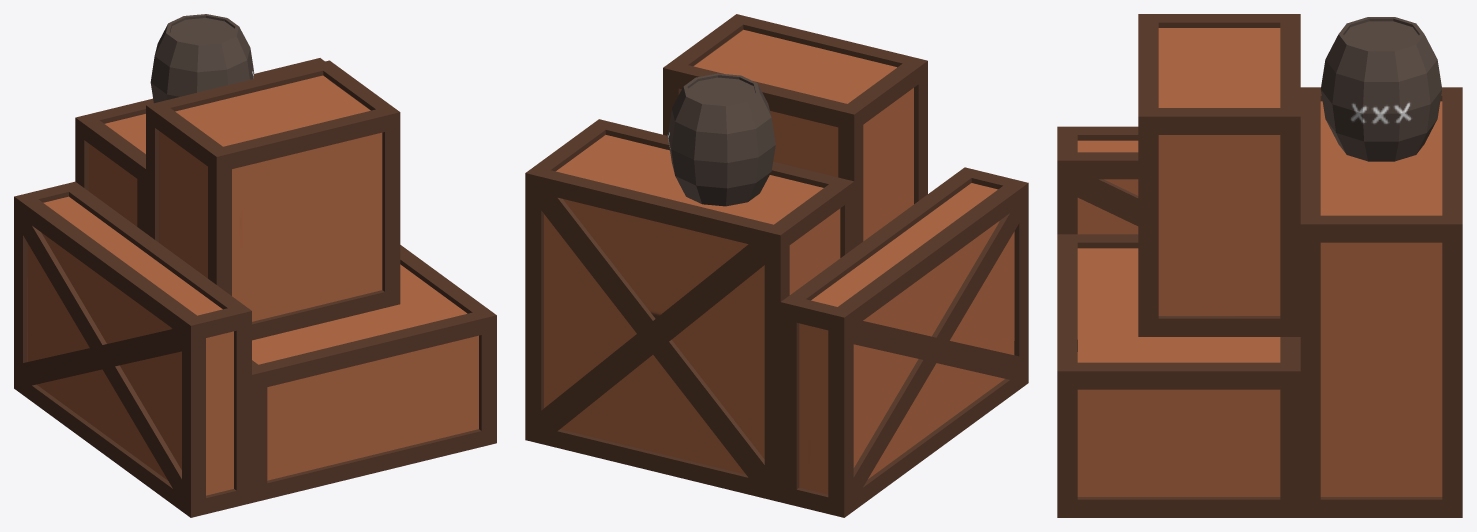
The model's file is Boxes.fbx.
The picture shows the model from 3 angles, left to right: view 1: azimuth 30°, elevation 25°; view 2: azimuth 150°, elevation 25°; view 3: azimuth 270°, elevation 25°; orthographic projection. The views are drawn at different scales.
Visible parts, largest first — view 1: Cube.001; view 2: Cube.001; view 3: Cube.001.
Part boxes in pixels (bbox=[...]): Cube.001: bbox=[14, 14, 496, 517]; Cube.001: bbox=[525, 14, 1028, 517]; Cube.001: bbox=[1057, 14, 1462, 517].
Size of the model in its own units: 100 by 109 by 100.
